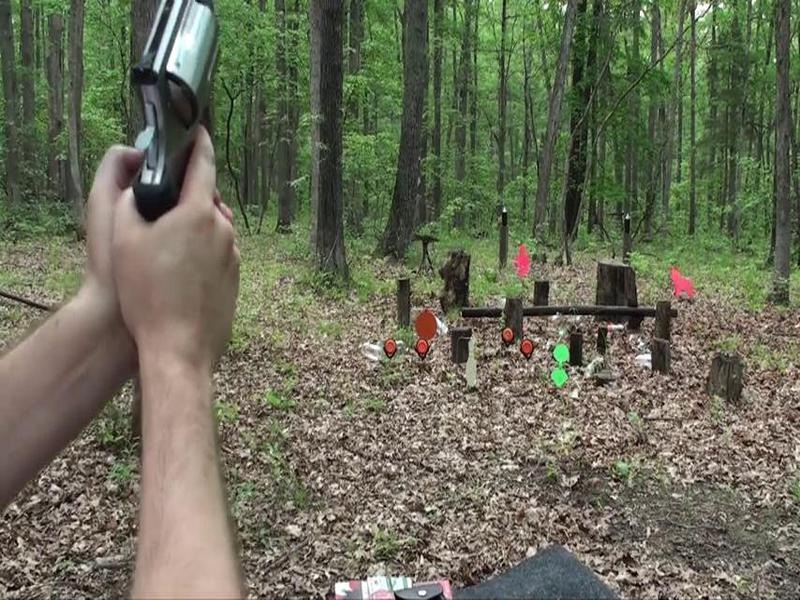Revolver: (96, 1, 243, 254)
